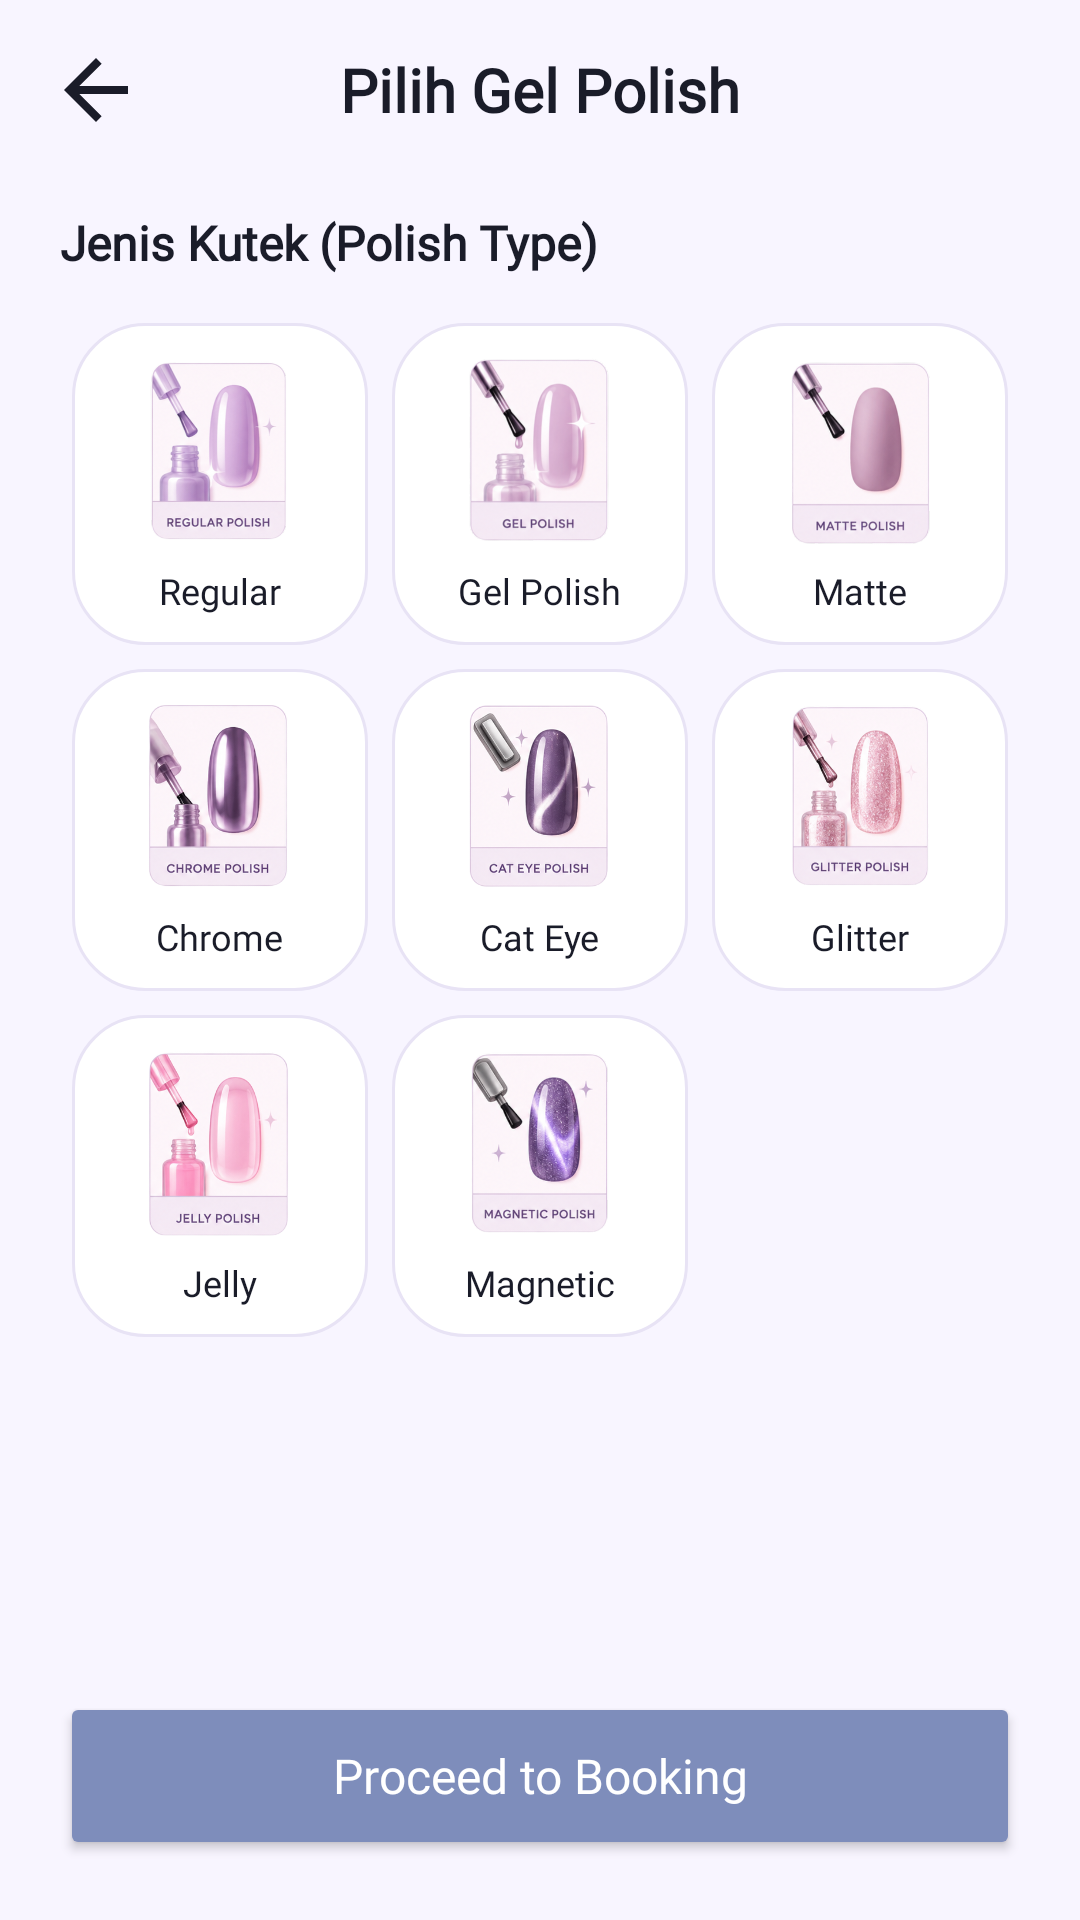

Where to tap for icons on this 1080 x 1920 app screen, as (x,y):
back: (96,90)
